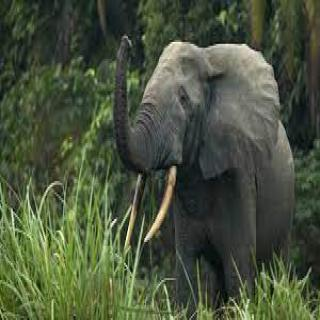Elephant: (111, 27, 301, 310)
